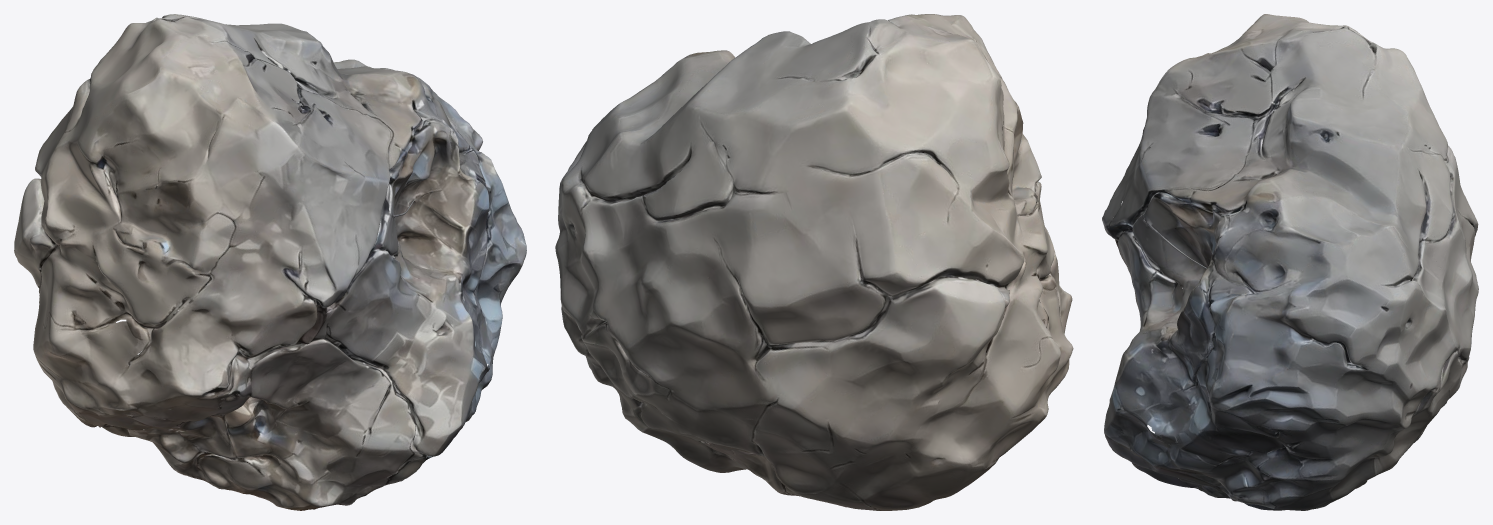
Rendered from stone_metal.glb.
The picture shows the model from 3 angles, left to right: view 1: azimuth 30°, elevation 25°; view 2: azimuth 150°, elevation 25°; view 3: azimuth 270°, elevation 25°; orthographic projection. The views are drawn at different scales.
Parts seen in each view (by area): view 1: tripo_node_4cf7f700; view 2: tripo_node_4cf7f700; view 3: tripo_node_4cf7f700.
Part boxes in pixels (x1,y1,x2,y2): tripo_node_4cf7f700: [14, 14, 526, 510]; tripo_node_4cf7f700: [555, 14, 1073, 510]; tripo_node_4cf7f700: [1102, 14, 1478, 510].
Bounding box in the file's own units: 97.46 × 97.63 × 77.51.
1 material, 1 textured.
